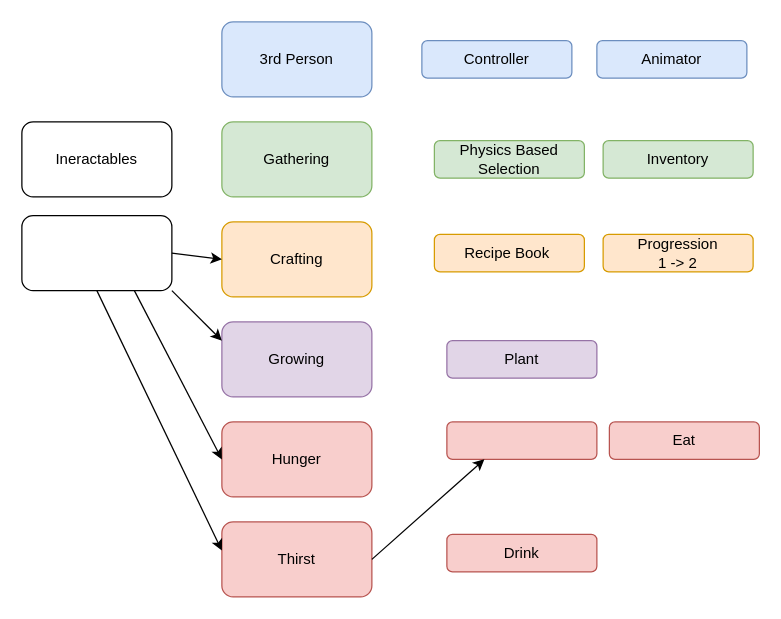
Image size: 781x619. Some labels were removed from this diagram. Here are the shapes that lost their labels. From the top down, the centre of each, then its label:
pixel 96 252: Timed Event
pixel 521 440: Death
